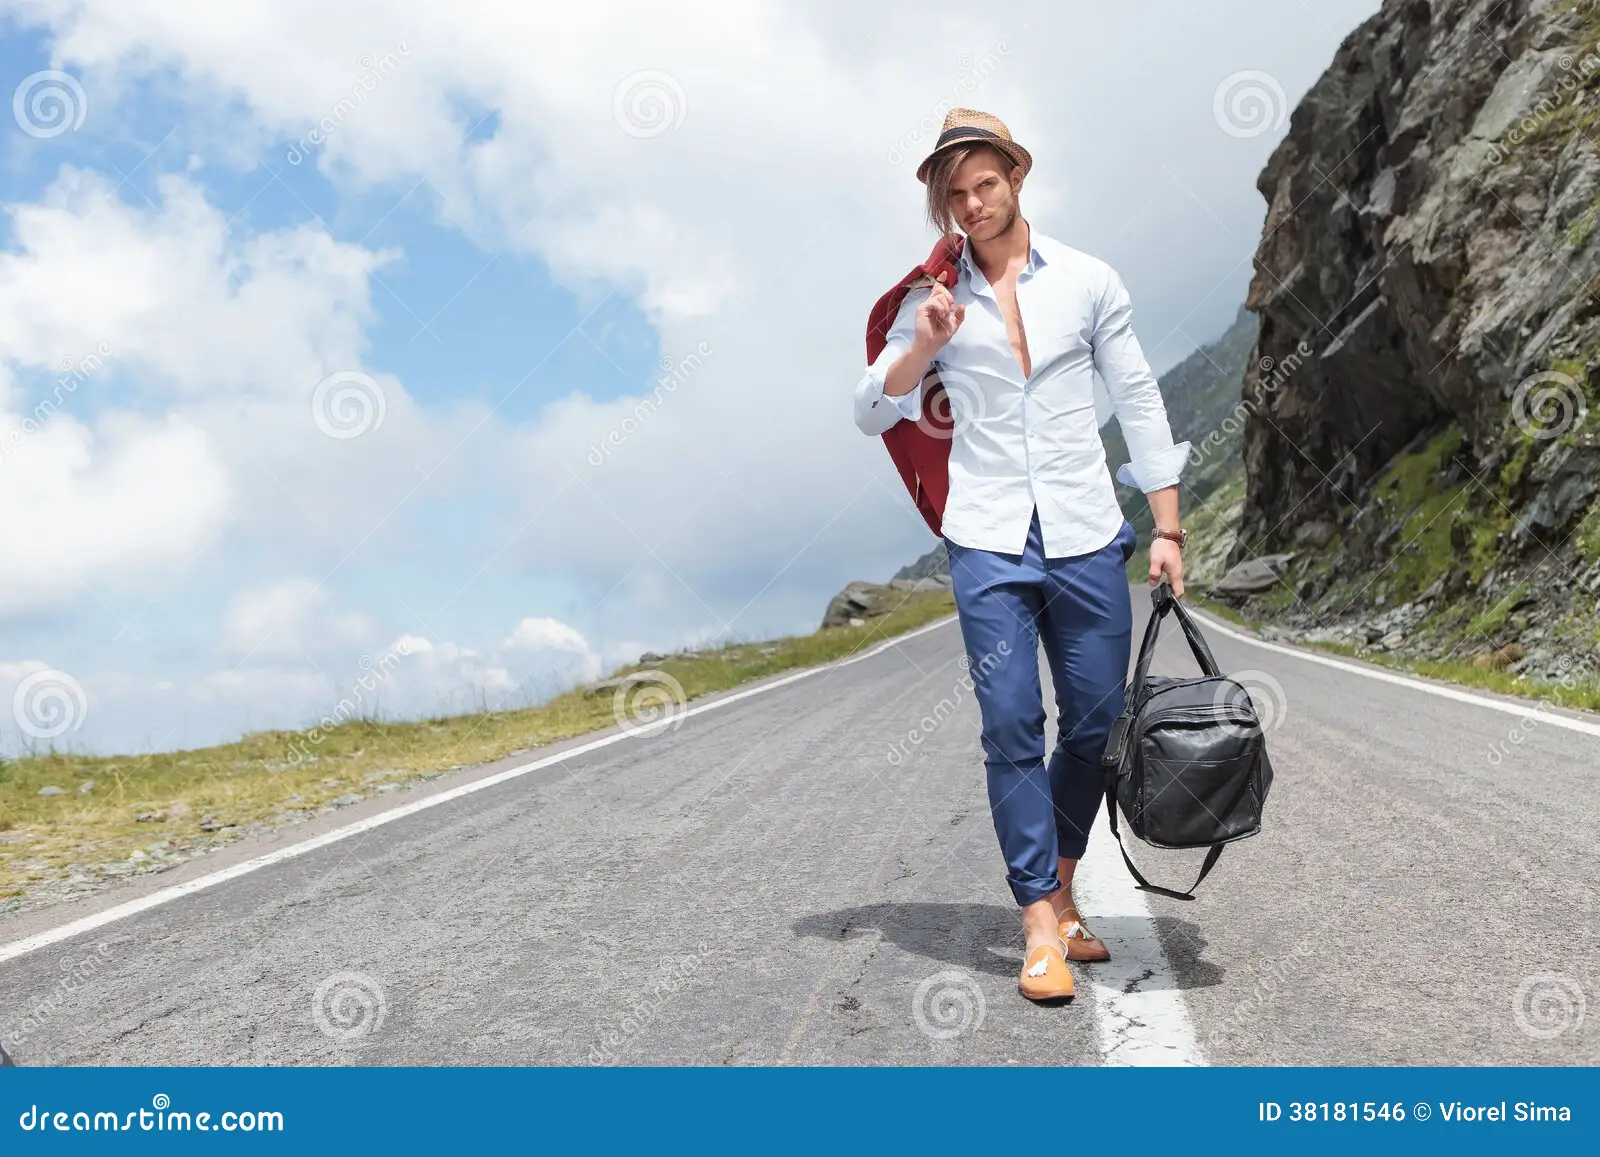person: (853, 100, 1278, 1006)
